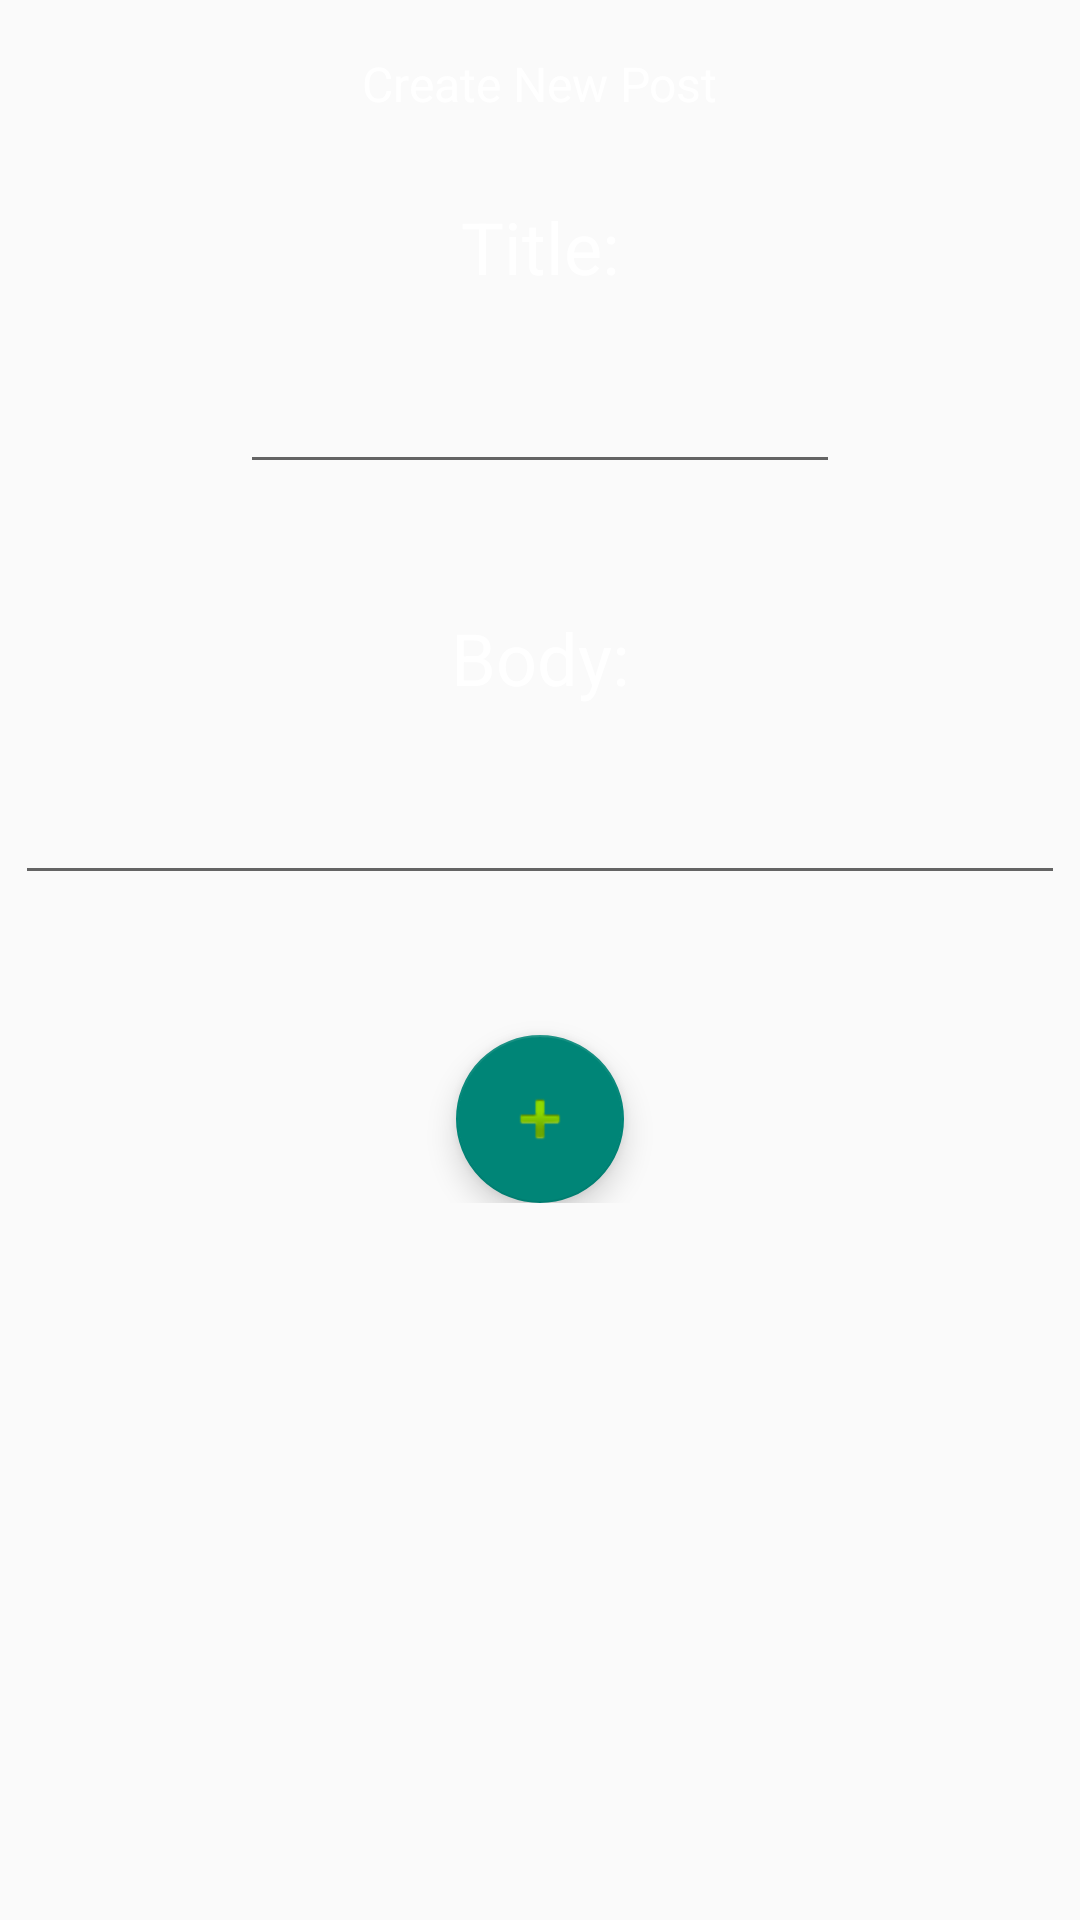

Locate icon controls on the screen. Image size 1080×1920, boxes as (x1, y1, x2, y2).
add: (456, 1035, 624, 1203)
